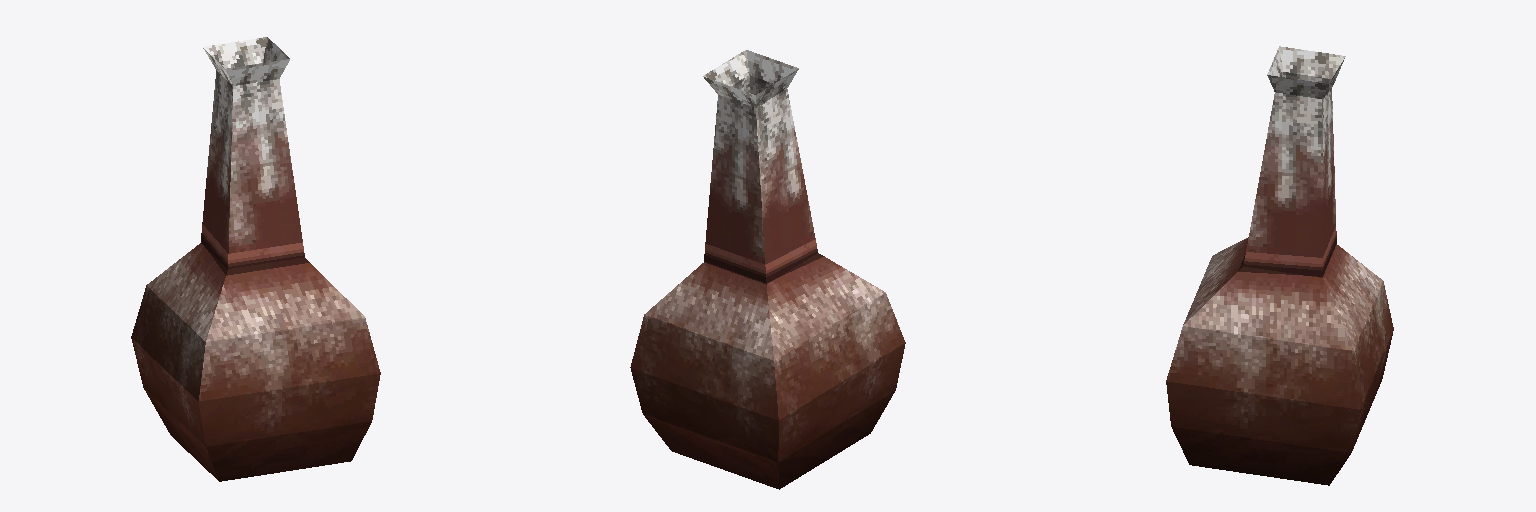
3 renders of one model, left to right at view 1: azimuth 30°, elevation 25°; view 2: azimuth 150°, elevation 25°; view 3: azimuth 270°, elevation 25°, orthographic.
Parts seen in each view (by area): view 1: bottlesmoke.m2; view 2: bottlesmoke.m2; view 3: bottlesmoke.m2.
Part boxes in pixels (left/top/right/bottom): bottlesmoke.m2: left=131, top=37, right=380, bottom=481; bottlesmoke.m2: left=630, top=50, right=905, bottom=489; bottlesmoke.m2: left=1166, top=46, right=1393, bottom=485.
Bounding box in the file's own units: 0.4518 × 0.8628 × 0.4573.
1 materials, 1 textured.